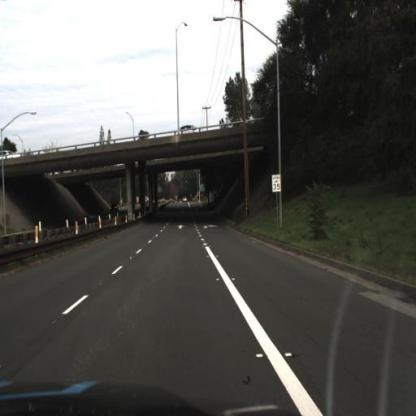car: (175, 122, 206, 141), (1, 145, 25, 163), (107, 198, 121, 216)
